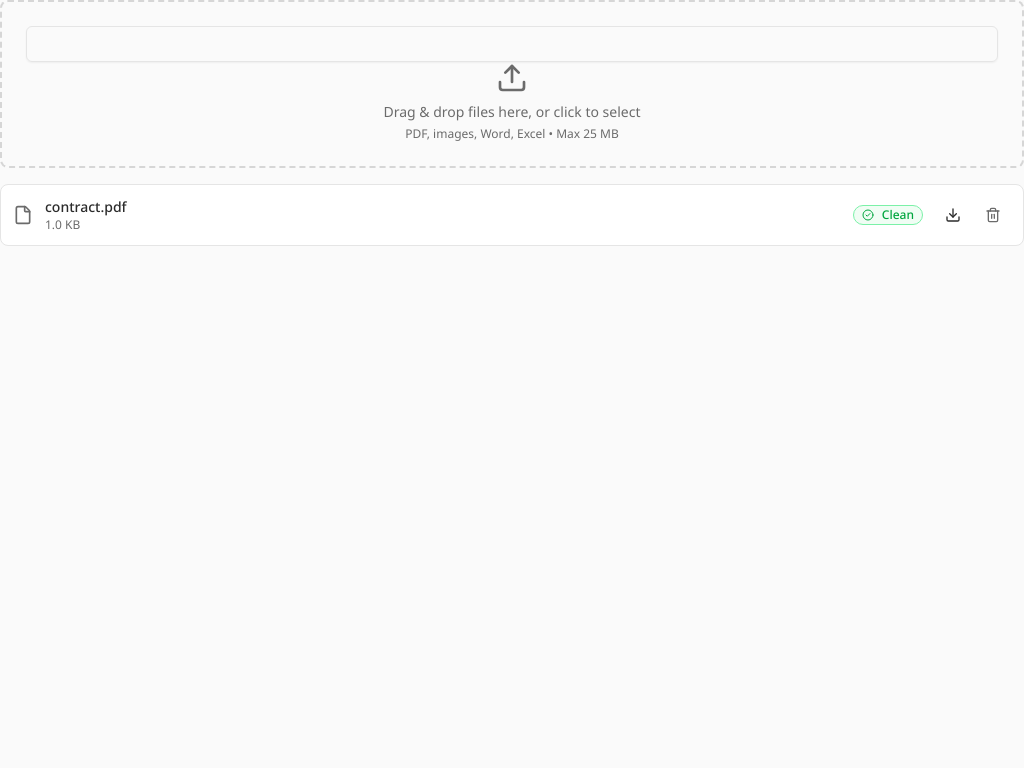
it: FileUploadZone accessibility › mentions the file name in delete confirmation
Click the button named "Delete contract.pdf".
click(993, 215)  # box [975,199,1011,231]
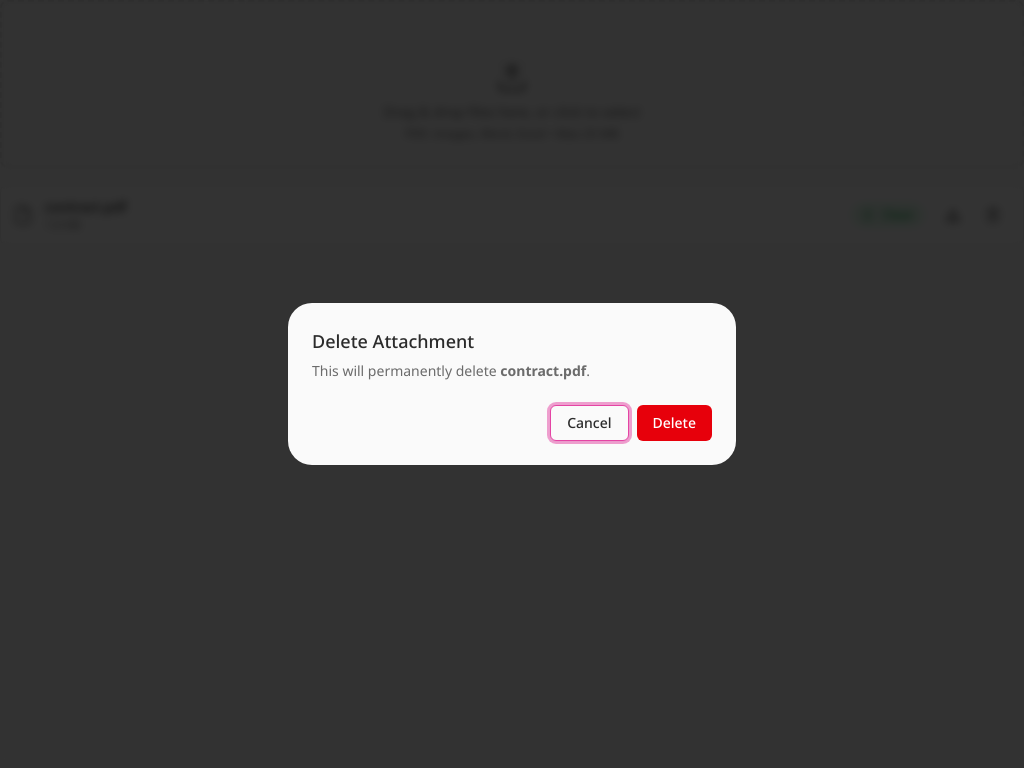
Check: the dialog shows "This will permanently delete", box [312,361,500,380]
Check: the dialog shows "contract.pdf", box [500,361,586,380]
